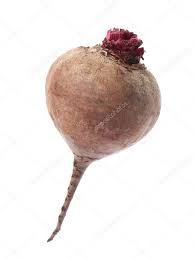beet: (45, 29, 163, 242)
